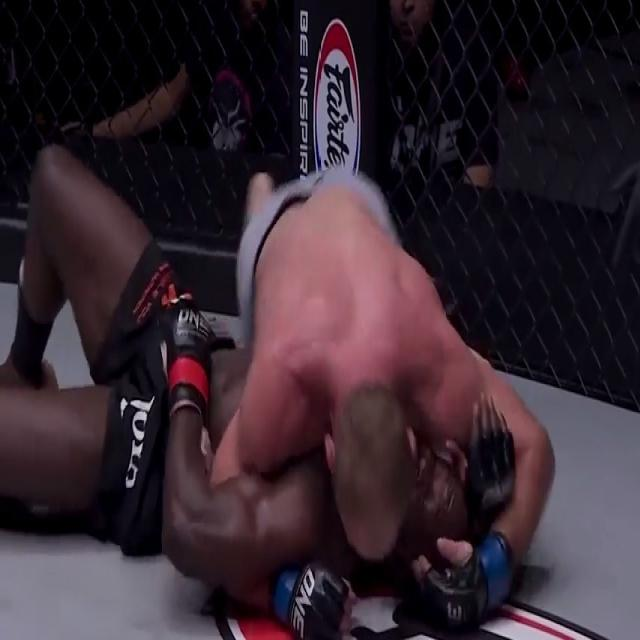fight: (0, 114, 588, 638)
